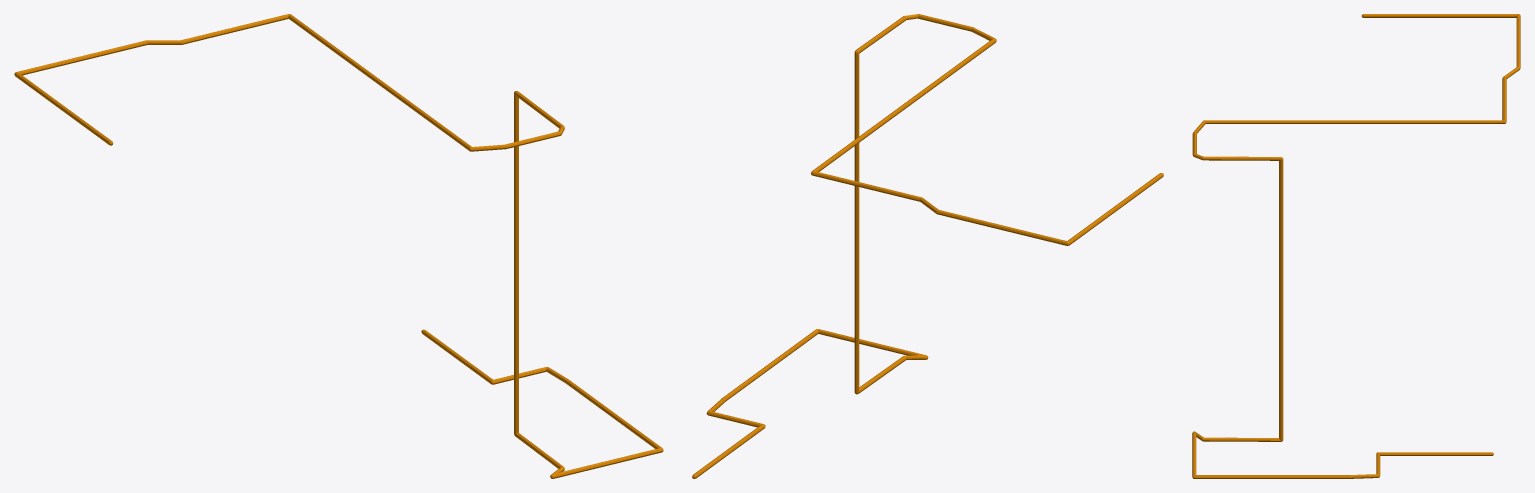
The picture shows the model from 3 angles, left to right: view 1: azimuth 30°, elevation 25°; view 2: azimuth 150°, elevation 25°; view 3: azimuth 270°, elevation 25°; orthographic projection. The views are drawn at different scales.
Bounding box in the file's own units: 2081 × 1520 × 1588.
